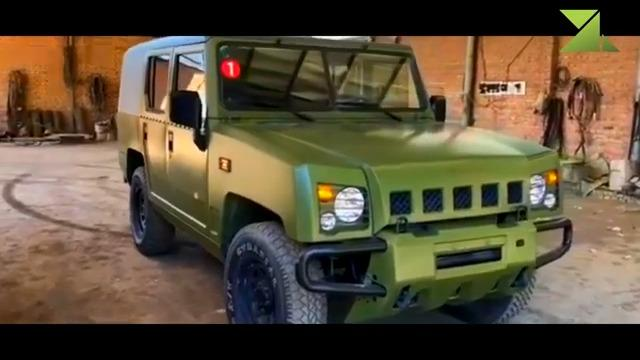MIL_HMMWV: (115, 35, 574, 325)
